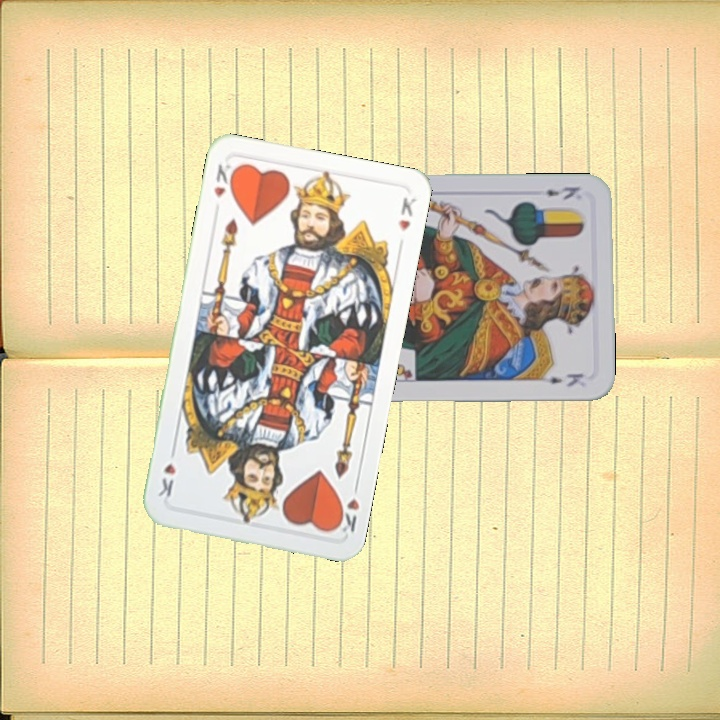EK: (541, 182, 582, 202)
HK: (331, 478, 362, 537), (209, 160, 239, 201)
